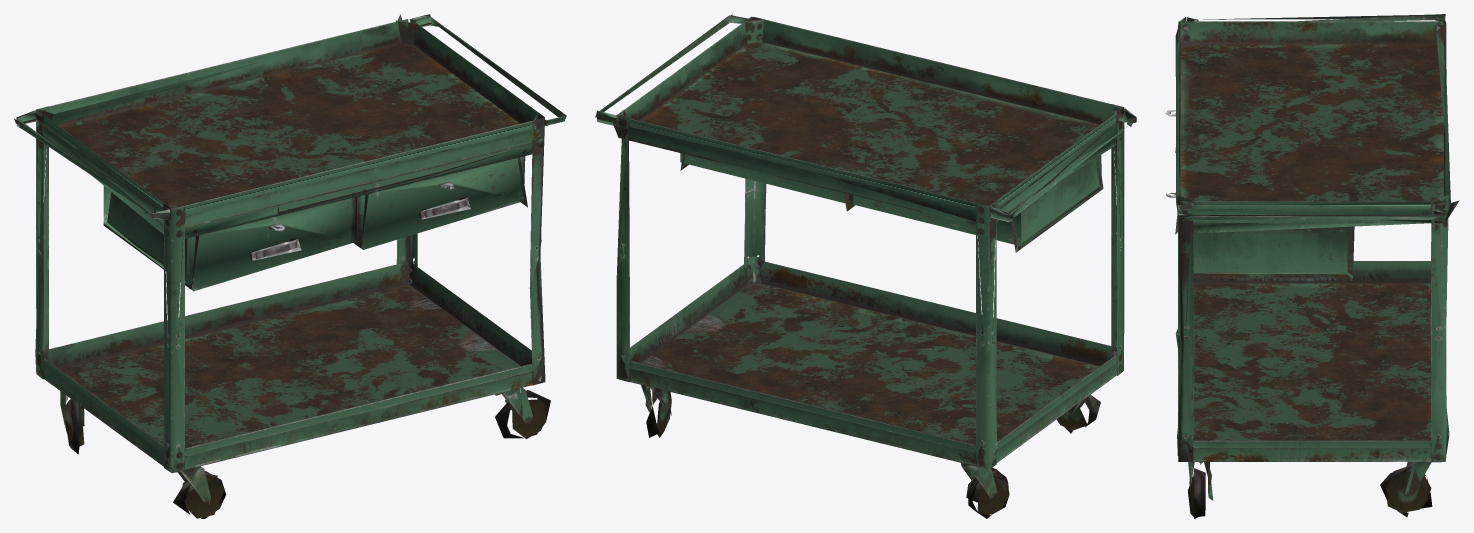
Rendered from cart.glb.
The picture shows the model from 3 angles, left to right: view 1: azimuth 30°, elevation 25°; view 2: azimuth 150°, elevation 25°; view 3: azimuth 270°, elevation 25°; orthographic projection.
Parts seen in each view (by area): view 1: tool_cart; view 2: tool_cart; view 3: tool_cart.
Part boxes in pixels (x1,y1,x2,y2): tool_cart: (14,14,566,518); tool_cart: (595,14,1136,518); tool_cart: (1165,14,1459,518).
Size of the model in its own units: 1.27 by 0.9654 by 0.7843.
Materials: 1 (1 with a texture image).
